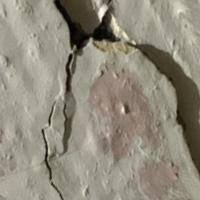crack: (35, 0, 173, 199)
